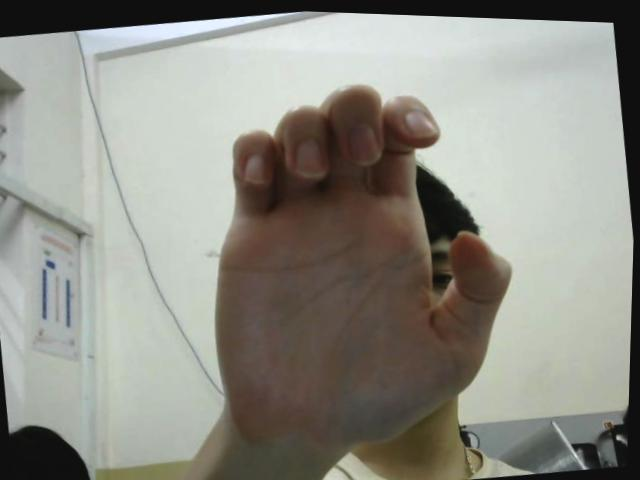E: (182, 57, 539, 464)
